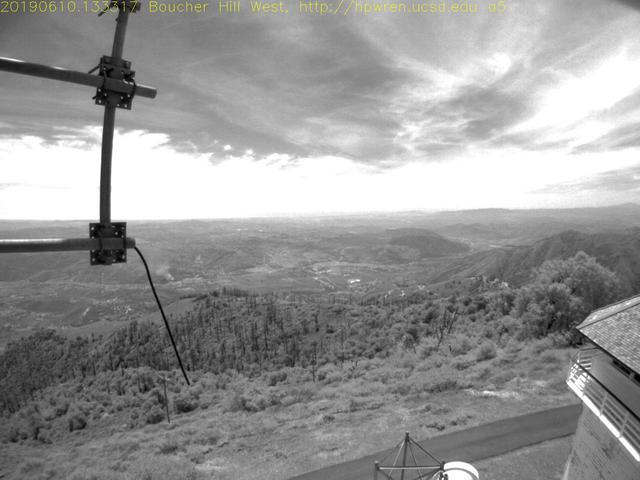smoke: (139, 239, 178, 283)
